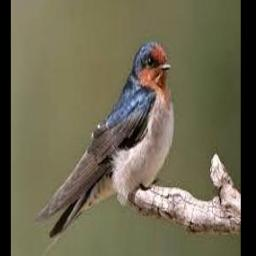Swallow: (32, 41, 175, 256)
